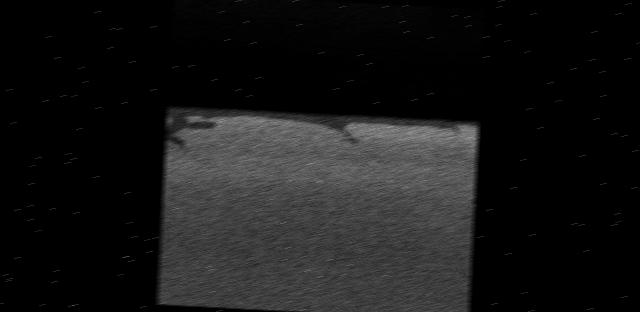water_spot: (163, 94, 462, 176)
